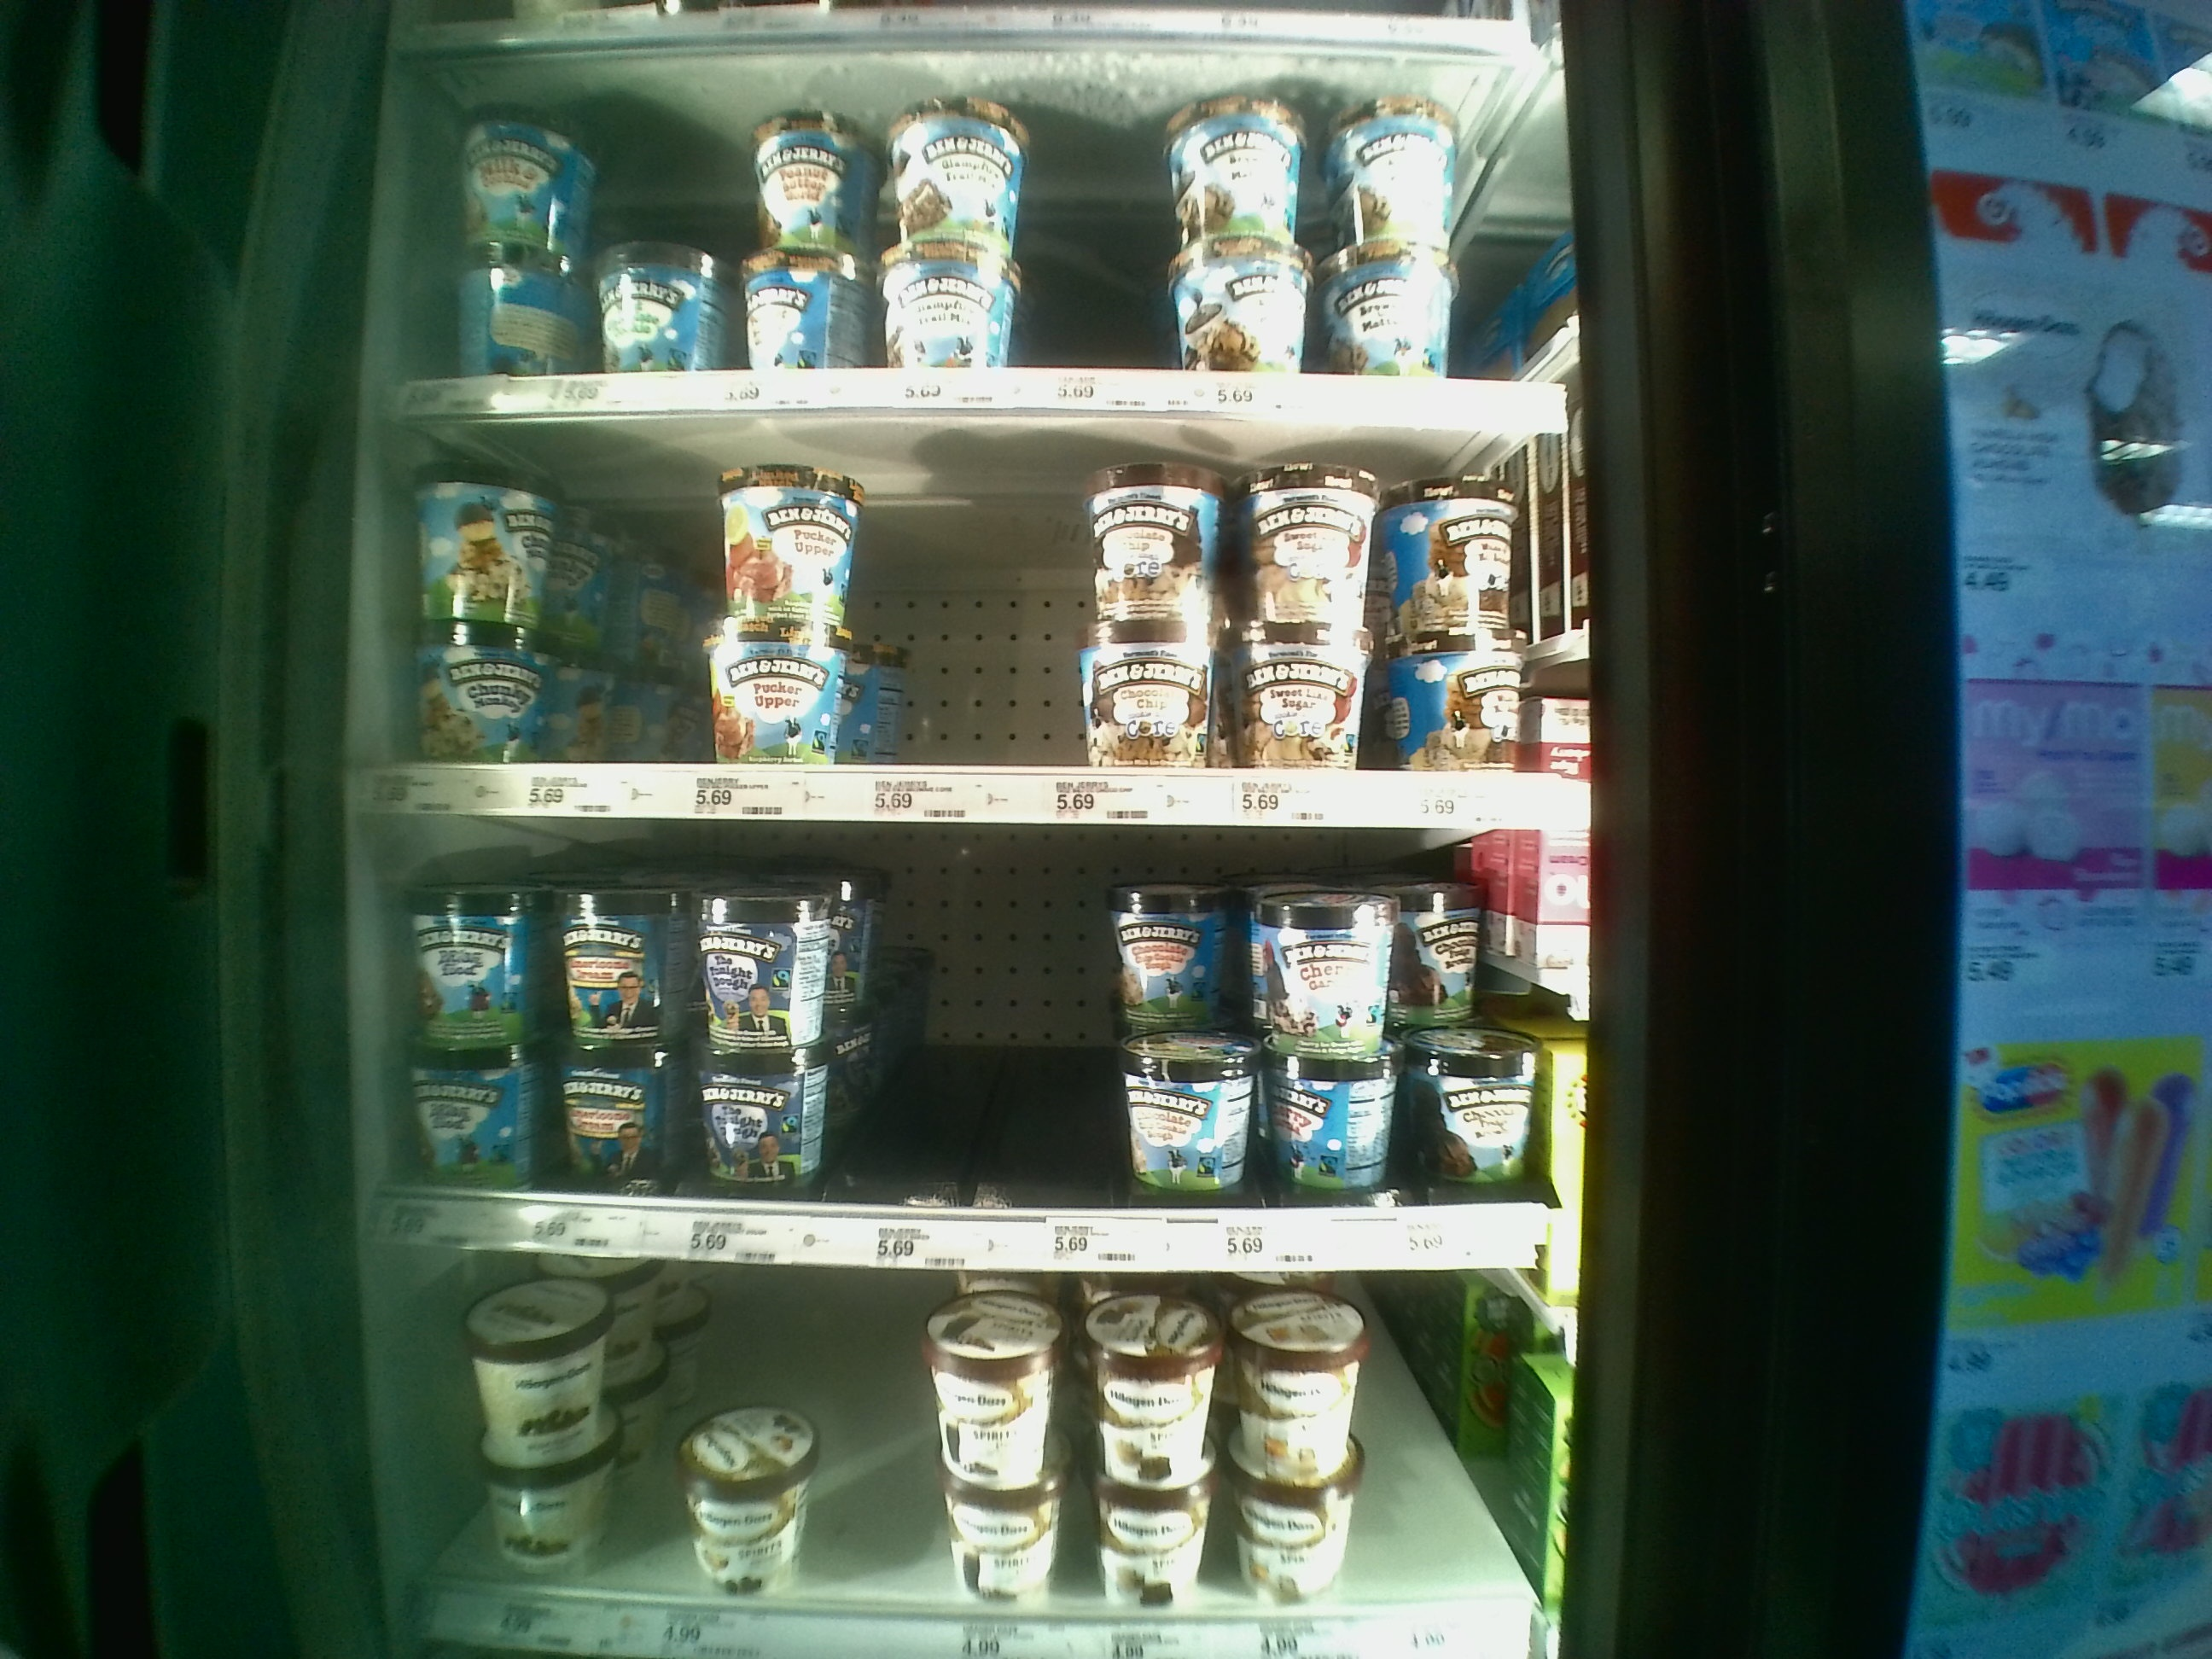ice-cream-shelf: (383, 823, 1581, 1251), (392, 413, 1595, 819), (394, 1258, 1575, 1659), (388, 33, 1587, 415)
